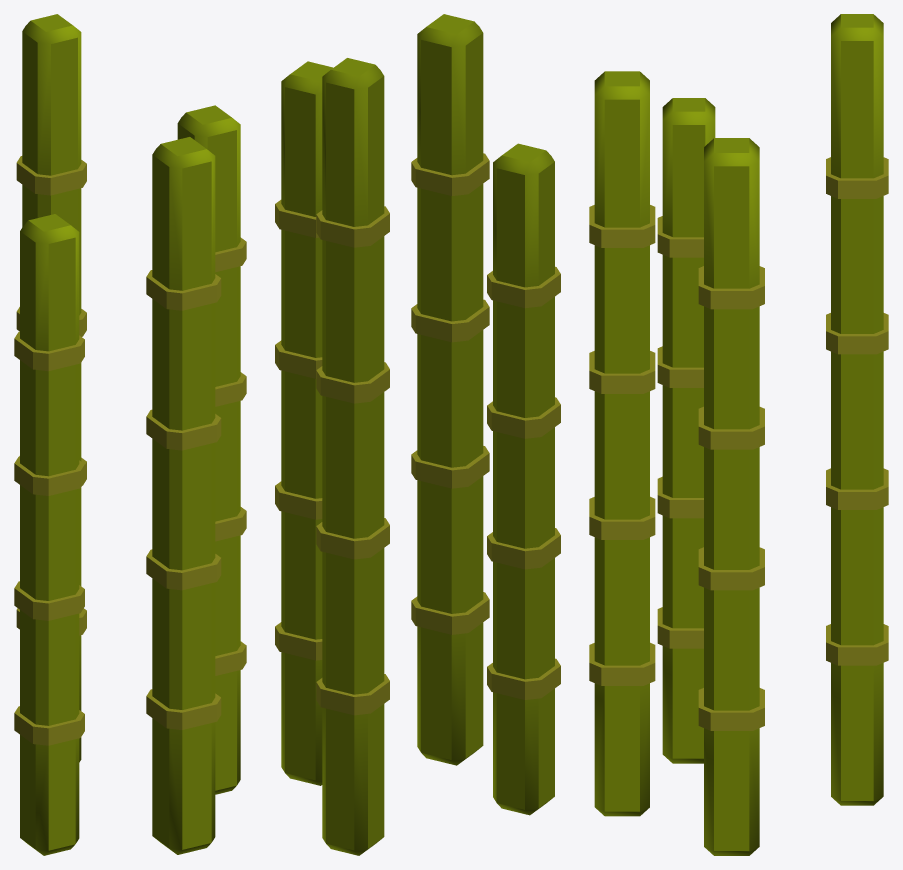
File: Bamboo.glb
The picture shows the model from 3 angles, left to right: view 1: azimuth 30°, elevation 25°; view 2: azimuth 150°, elevation 25°; view 3: azimuth 270°, elevation 25°; orthographic projection. The views are drawn at different scales.
Visible parts, largest first — view 1: Bamboo; view 2: Bamboo; view 3: Bamboo.
Part boxes in pixels (x1,y1,x2,y2): Bamboo: [14, 14, 246, 855]; Bamboo: [275, 14, 560, 855]; Bamboo: [589, 14, 888, 855].
Size of the model in its own units: 1.46 by 4.44 by 1.55.
